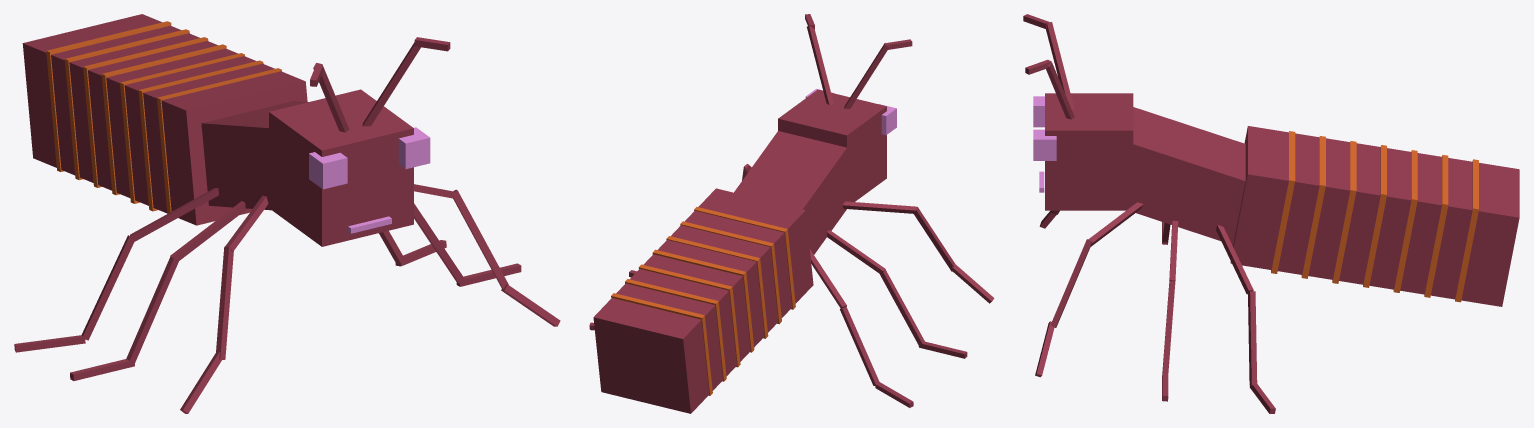
The model's file is QueenAnt.fbx.
The picture shows the model from 3 angles, left to right: view 1: azimuth 30°, elevation 25°; view 2: azimuth 150°, elevation 25°; view 3: azimuth 270°, elevation 25°; orthographic projection. The views are drawn at different scales.
Parts seen in each view (by area): view 1: Cube.001, Cube.035, Cube.029, Cube.034, Cube.033, Cube.022, Cube.031, Cube.030, Cube.032, Cube.023; view 2: Cube.001, Cube.035, Cube.029, Cube.034, Cube.033, Cube.031, Cube.032, Cube.030, Cube.022; view 3: Cube.001, Cube.031, Cube.030, Cube.034, Cube.035, Cube.029, Cube.032, Cube.033, Cube.023.
Boxes of the visible parts, box(x1,y1,x2,y2) form: Cube.001: box(14, 14, 560, 413); Cube.035: box(46, 21, 171, 171); Cube.029: box(101, 44, 226, 195); Cube.034: box(64, 29, 189, 180); Cube.033: box(83, 37, 208, 187); Cube.022: box(309, 152, 347, 189); Cube.031: box(138, 60, 263, 211); Cube.030: box(120, 53, 244, 203); Cube.032: box(157, 68, 281, 213); Cube.023: box(398, 127, 430, 168); Cube.001: box(589, 14, 994, 413); Cube.035: box(611, 293, 712, 395); Cube.029: box(652, 249, 754, 352); Cube.034: box(625, 279, 726, 381); Cube.033: box(638, 264, 740, 367); Cube.031: box(680, 221, 781, 324); Cube.032: box(694, 207, 795, 309); Cube.030: box(666, 236, 768, 338); Cube.022: box(878, 104, 896, 135); Cube.001: box(1023, 14, 1519, 413); Cube.031: box(1301, 136, 1325, 278); Cube.030: box(1332, 141, 1356, 283); Cube.034: box(1424, 154, 1448, 297); Cube.035: box(1455, 159, 1478, 302); Cube.029: box(1363, 145, 1386, 287); Cube.032: box(1271, 131, 1295, 273); Cube.033: box(1393, 150, 1417, 292); Cube.023: box(1033, 129, 1056, 160).
Bounding box in the file's own units: 140 × 104 × 162.
